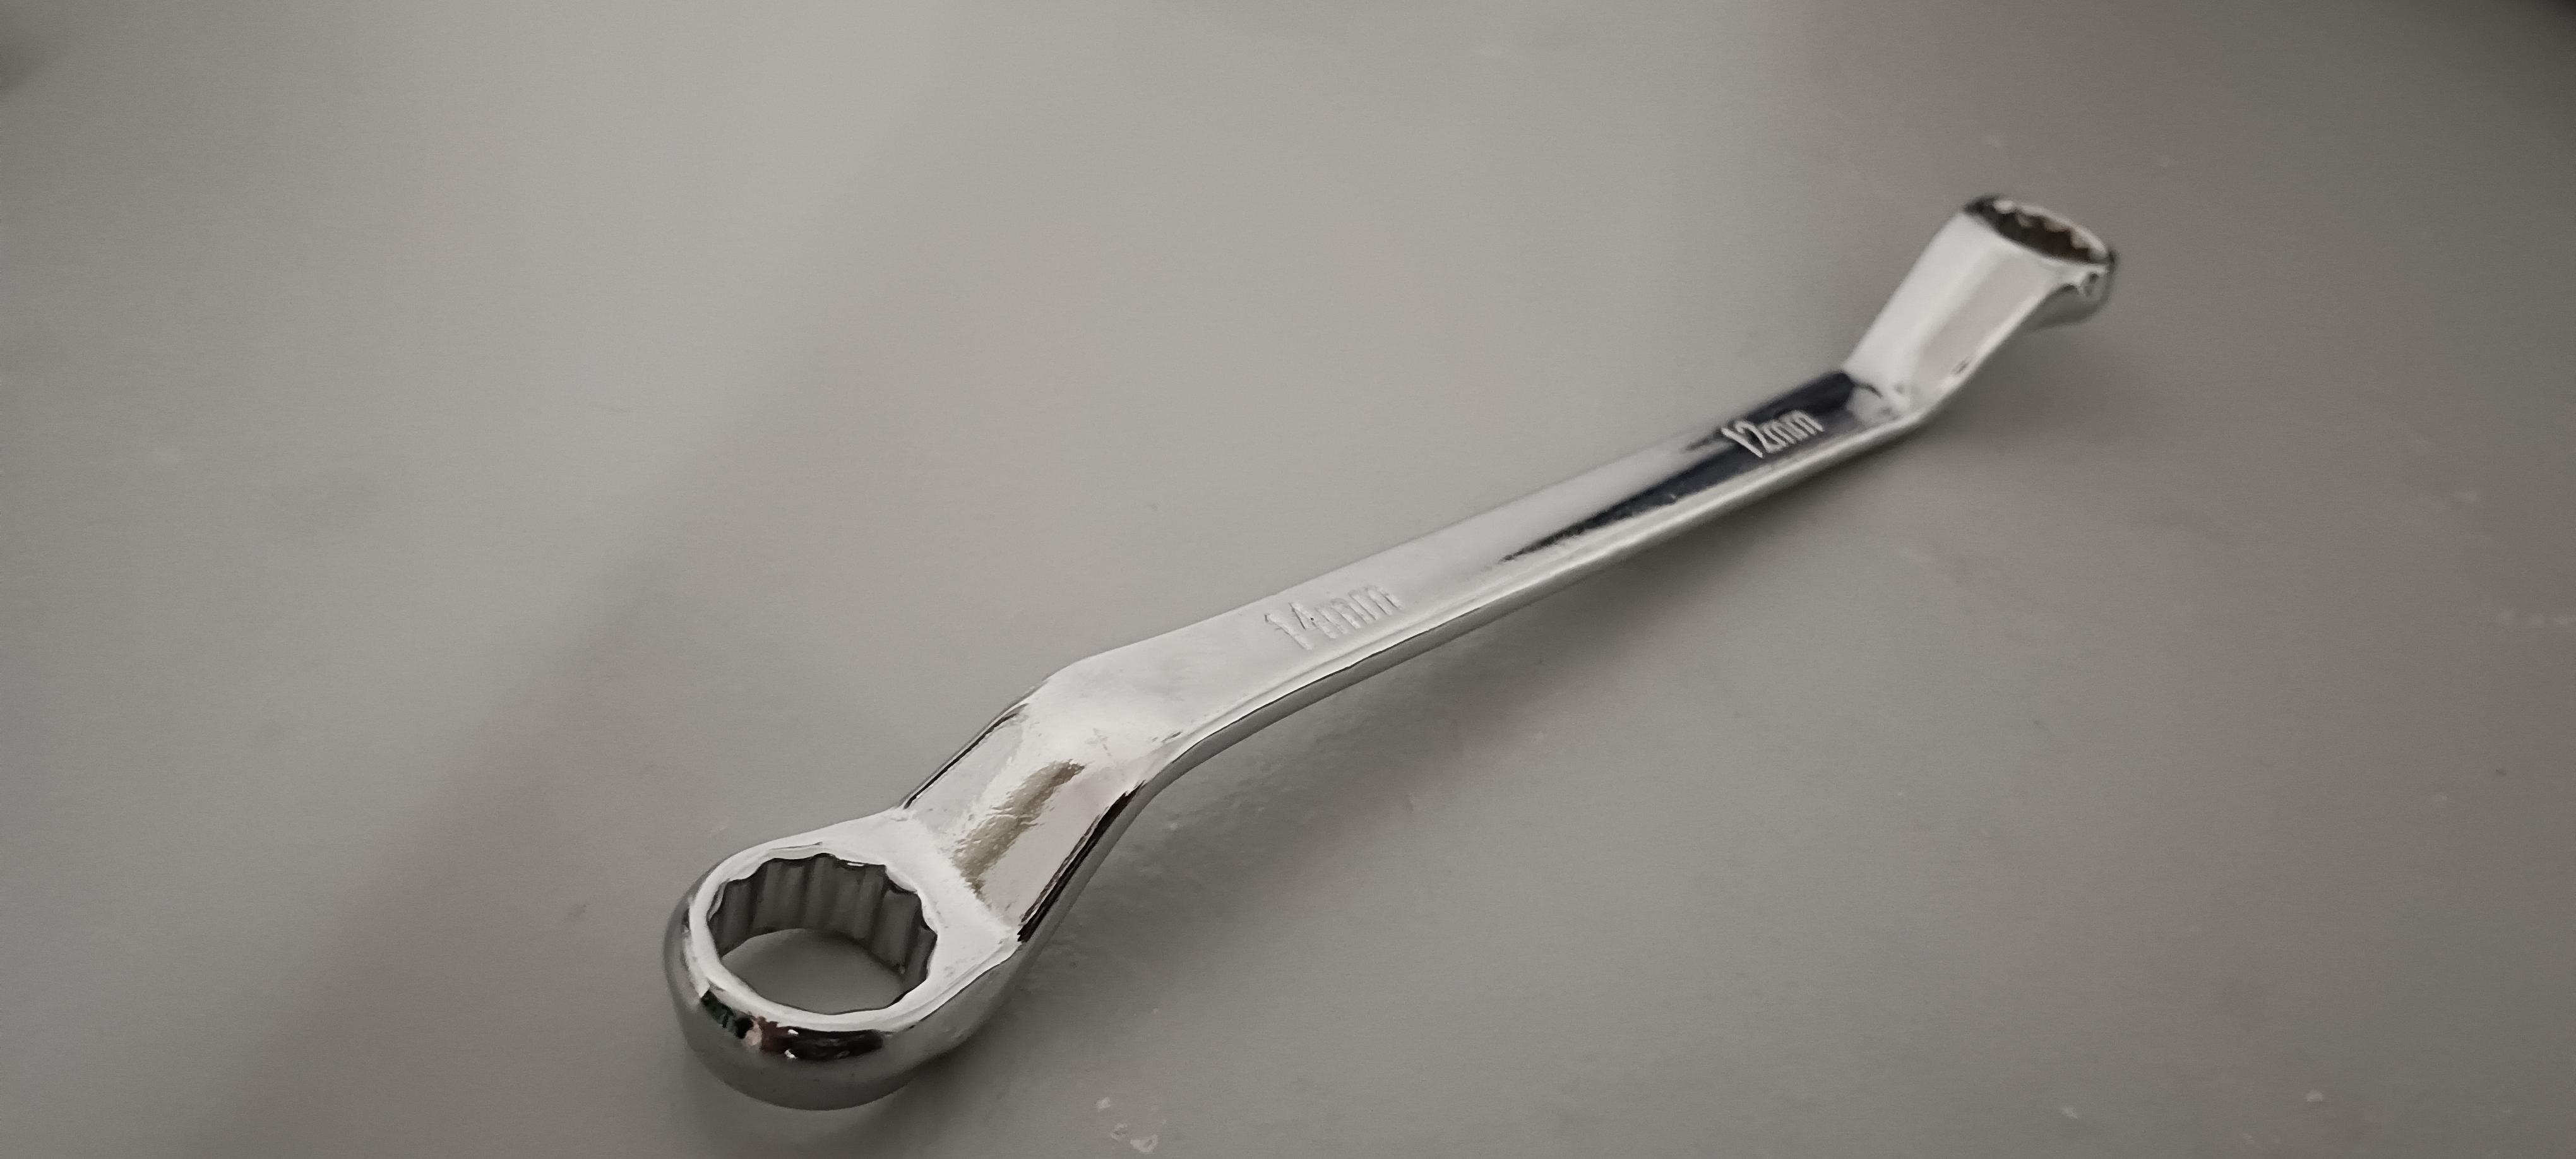Spanners: (583, 151, 2178, 1159)
